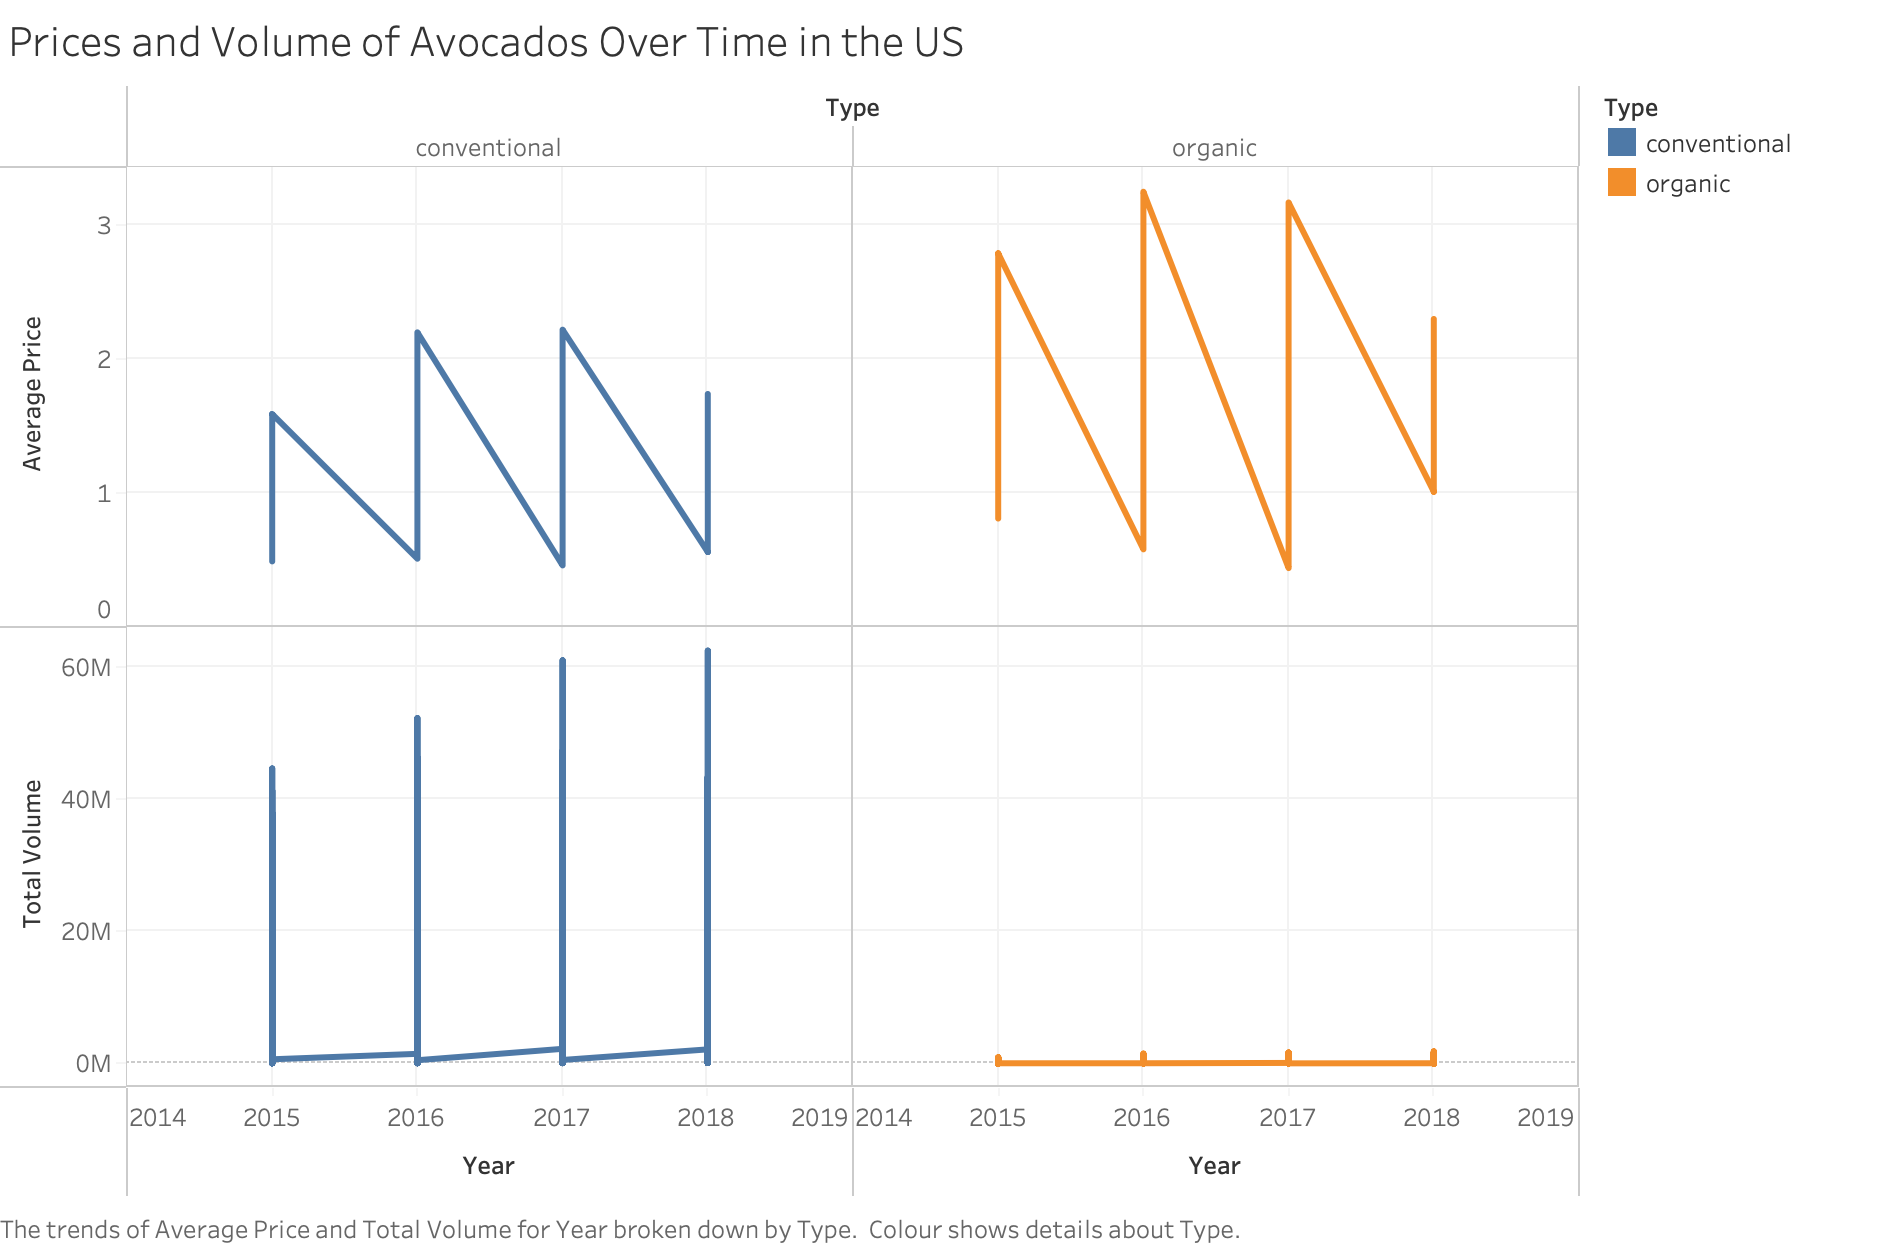

Layout of this report page (visuals, bound fields, positions):
{"tool":"tableau","page":{"name":"Dashboard 1","canvas":[1000,800],"ordinal":0},"visuals":[{"type":"worksheet","title":"Sheet 3","mark":"Automatic","rows":["fall","Meteorite_Landings_20231028.csv_1F803E414B8C4B4B9D0B80996B7E"],"cols":["year"],"box":[8,8,984,441]},{"type":"worksheet","title":"Sheet 1","mark":"Automatic","rows":["name"],"cols":["mass (g)"],"box":[8,449,492,343]},{"type":"worksheet","title":"Sheet 2","mark":"Automatic","rows":["recclass"],"cols":["recclass"],"box":[500,449,492,343]}]}

Visuals, with their boxes on the page's 1000x800 design canvas (x1, y1, x2, y2). These are canvas units, not pixel positions in the 1882x1248 screenshot, which may show the page scaled, cropped or inside an application window:
"Sheet 3" worksheet: Rect(8, 8, 992, 449)
"Sheet 1" worksheet: Rect(8, 449, 500, 792)
"Sheet 2" worksheet: Rect(500, 449, 992, 792)
